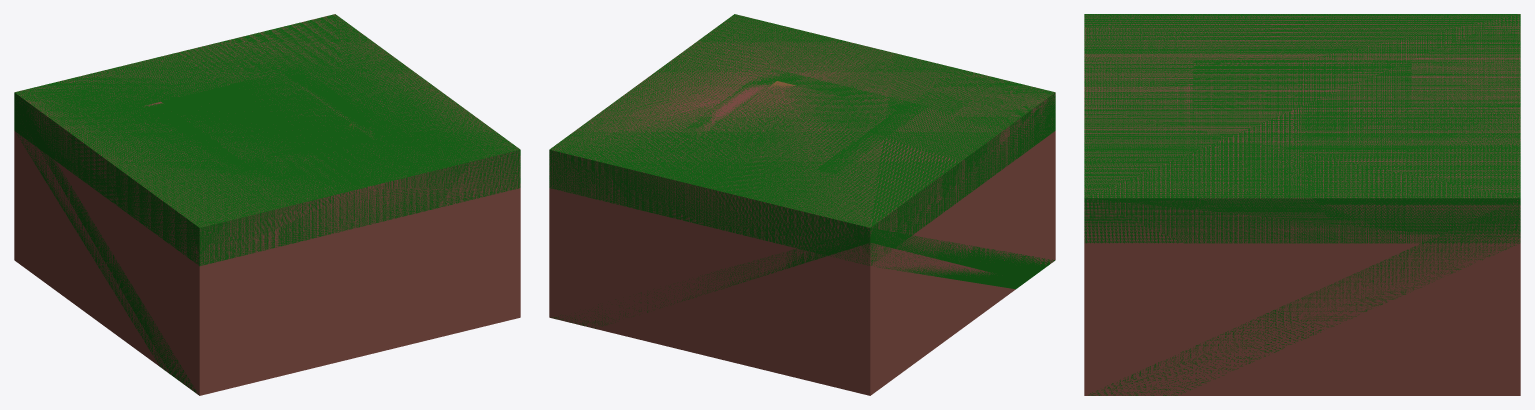
Rendered from Terrain Test.glb.
3 views of the same model, side by side, from view 1: azimuth 30°, elevation 25°; view 2: azimuth 150°, elevation 25°; view 3: azimuth 270°, elevation 25° (orthographic). The views are drawn at different scales.
Visible parts, largest first — view 1: Plain Grass Large Cube, Dirt Large Cube, Plain Grass Large Slope, Plain Grass Large Slope Corner, Plain Grass Cube, Plain Grass Path Straight, Plain Grass Path T Junction, Plain Grass Path Corner; view 2: Plain Grass Large Cube, Dirt Large Cube, Plain Grass Large Slope Corner, Dirt Large Slope, Plain Grass Large Slope, Plain Grass Cube, Plain Grass Path Straight, Plain Grass Path T Junction, Dirt Large Slope Corner, Dirt Path Straight, Plain Grass Path Corner; view 3: Plain Grass Large Cube, Dirt Large Cube, Plain Grass Large Slope, Dirt Large Slope, Plain Grass Cube.
Boxes of the visible parts, x1=… form: Plain Grass Large Cube: x1=14, y1=14, x2=520, y2=395; Dirt Large Cube: x1=14, y1=14, x2=520, y2=395; Plain Grass Large Slope: x1=14, y1=95, x2=196, y2=393; Plain Grass Large Slope Corner: x1=14, y1=94, x2=198, y2=394; Plain Grass Cube: x1=146, y1=67, x2=387, y2=173; Plain Grass Path Straight: x1=145, y1=70, x2=384, y2=172; Plain Grass Path T Junction: x1=143, y1=70, x2=387, y2=173; Plain Grass Path Corner: x1=246, y1=77, x2=380, y2=168; Plain Grass Large Cube: x1=549, y1=14, x2=1055, y2=395; Dirt Large Cube: x1=550, y1=14, x2=1055, y2=386; Plain Grass Large Slope Corner: x1=551, y1=228, x2=1054, y2=395; Dirt Large Slope: x1=549, y1=151, x2=870, y2=394; Plain Grass Large Slope: x1=870, y1=228, x2=1054, y2=395; Plain Grass Cube: x1=679, y1=68, x2=927, y2=173; Plain Grass Path Straight: x1=683, y1=71, x2=920, y2=173; Plain Grass Path T Junction: x1=684, y1=70, x2=927, y2=173; Dirt Large Slope Corner: x1=559, y1=229, x2=1032, y2=393; Dirt Path Straight: x1=687, y1=72, x2=781, y2=139; Plain Grass Path Corner: x1=688, y1=76, x2=907, y2=128; Plain Grass Large Cube: x1=1084, y1=14, x2=1520, y2=395; Dirt Large Cube: x1=1084, y1=14, x2=1520, y2=395; Plain Grass Large Slope: x1=1088, y1=199, x2=1520, y2=395; Dirt Large Slope: x1=1090, y1=200, x2=1520, y2=395; Plain Grass Cube: x1=1193, y1=60, x2=1411, y2=132.
Bounding box in the file's own units: 4 × 2.07 × 4.
Materials: 22 (22 with a texture image).
